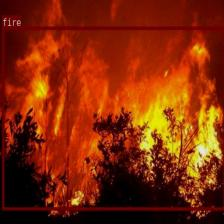fire: (2, 26, 224, 210)
